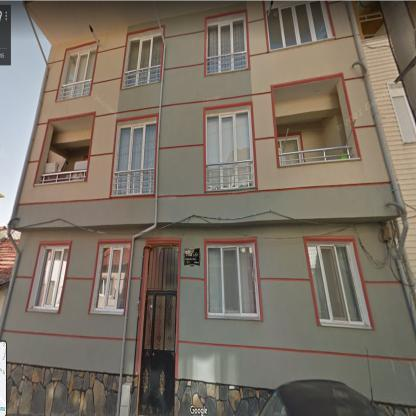door: (137, 291, 176, 413)
window: (307, 241, 369, 327), (206, 108, 255, 192), (207, 242, 260, 319), (266, 3, 332, 49), (115, 120, 155, 194), (92, 242, 130, 310), (207, 15, 247, 73), (33, 246, 68, 307), (126, 32, 162, 86), (61, 47, 96, 98), (388, 83, 415, 142), (147, 246, 177, 288), (278, 136, 302, 165)
